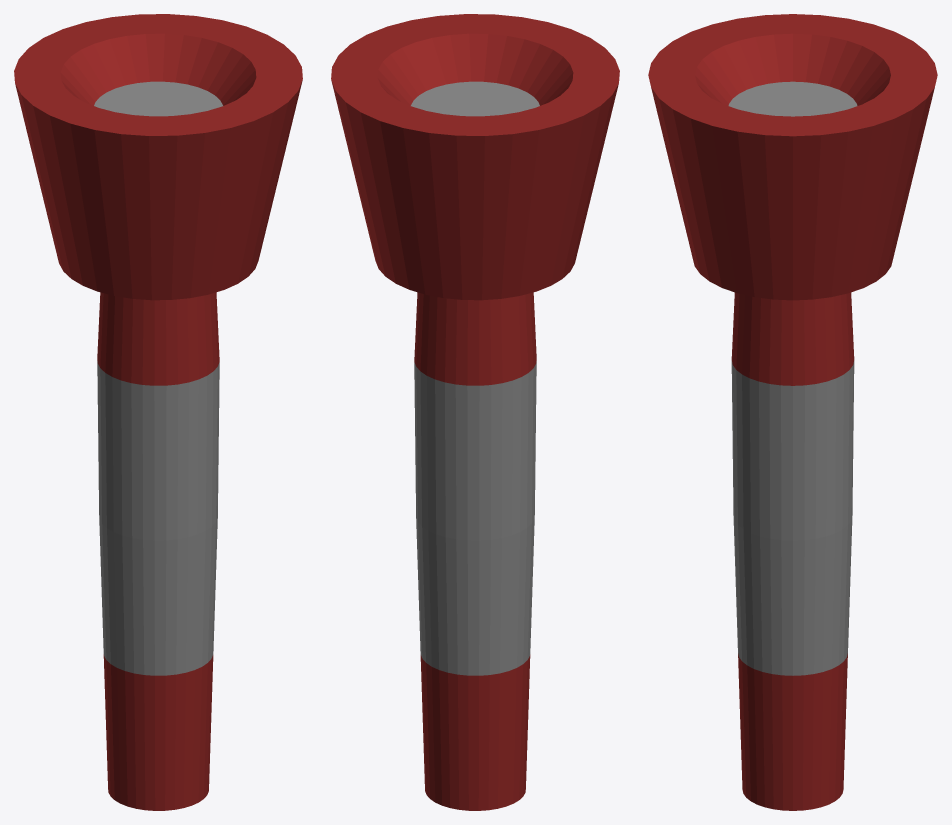
Rendered from FlashLight.fbx.
The picture shows the model from 3 angles, left to right: view 1: azimuth 30°, elevation 25°; view 2: azimuth 150°, elevation 25°; view 3: azimuth 270°, elevation 25°; orthographic projection.
Parts seen in each view (by area): view 1: Cylinder; view 2: Cylinder; view 3: Cylinder.
Boxes of the visible parts, x1,y1,x2,y2 form: Cylinder: [14, 14, 302, 810]; Cylinder: [331, 14, 619, 810]; Cylinder: [648, 14, 937, 810].
Bounding box in the file's own units: 58.19 × 159 × 58.19.
